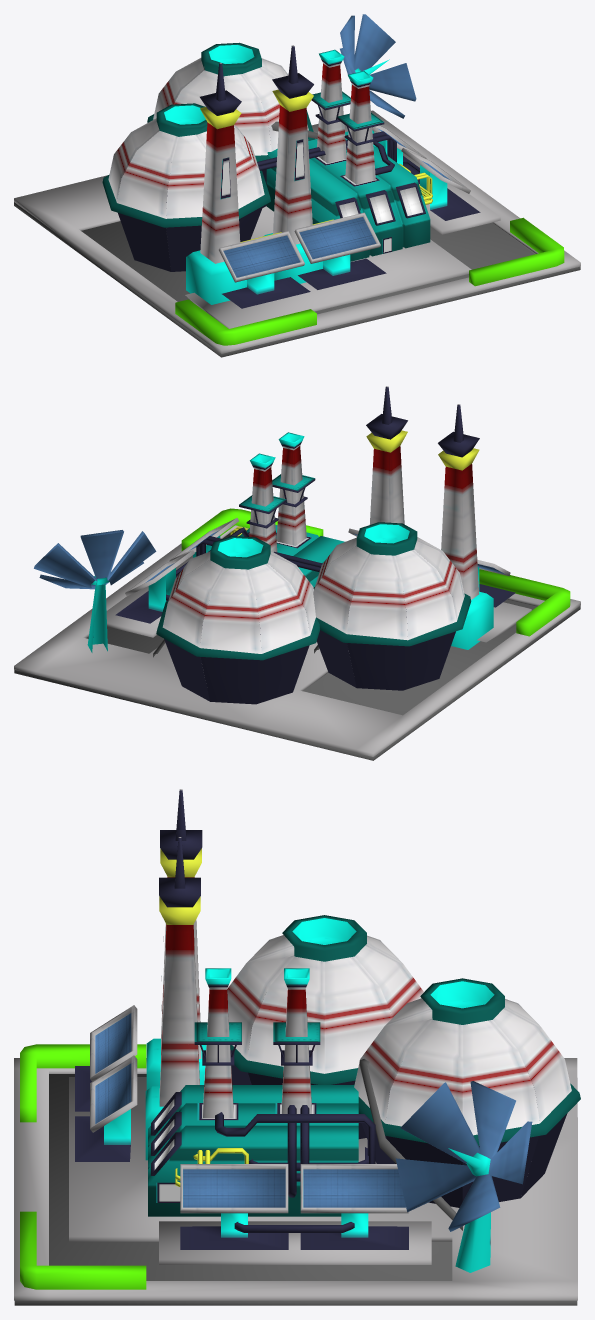
Rendered from energy_LV3.fbx.
The picture shows the model from 3 angles, top to bottom: view 1: azimuth 30°, elevation 25°; view 2: azimuth 150°, elevation 25°; view 3: azimuth 270°, elevation 25°; orthographic projection. The views are drawn at different scales.
Parts seen in each view (by area): view 1: energy level 3; view 2: energy level 3; view 3: energy level 3.
Part boxes in pixels (x1,y1,x2,y2): energy level 3: (14,14,580,357); energy level 3: (14,386,580,760); energy level 3: (14,789,580,1305).
Bounding box in the file's own units: 162 × 99.89 × 161.
